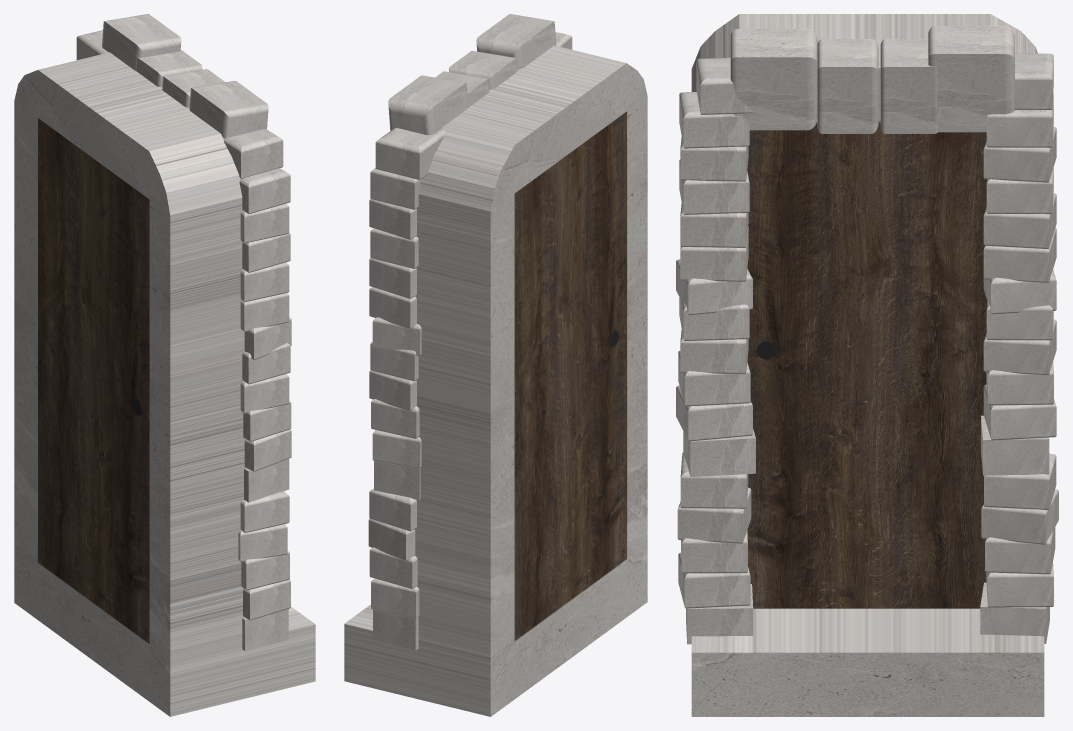
The model's file is Door1.fbx.
The picture shows the model from 3 angles, left to right: view 1: azimuth 30°, elevation 25°; view 2: azimuth 150°, elevation 25°; view 3: azimuth 270°, elevation 25°; orthographic projection. The views are drawn at different scales.
Visible parts, largest first — view 1: Cube, Cube.032, Cube.035, Cube.036, Cube.037, Cube.005, Cube.012, Cube.015, Cube.014, Cube.009, Cube.004, Cube.001 (+11 smaller); view 2: Cube, Cube.035, Cube.032, Cube.038, Cube.033, Cube.031, Cube.020, Cube.022, Cube.017, Cube.028, Cube.021, Cube.029 (+10 smaller); view 3: Cube, Cube.032, Cube.035, Cube.033, Cube.034, Cube.037, Cube.006, Cube.021, Cube.007, Cube.019, Cube.020, Cube.022 (+27 smaller).
Part boxes in pixels (<box>): Cube: <box>14,52,315,716</box>; Cube.032: <box>189,81,268,138</box>; Cube.035: <box>102,14,181,70</box>; Cube.036: <box>223,129,283,178</box>; Cube.037: <box>239,168,290,213</box>; Cube.005: <box>240,491,289,532</box>; Cube.012: <box>240,262,289,302</box>; Cube.015: <box>240,203,289,243</box>; Cube.014: <box>240,293,289,331</box>; Cube.009: <box>240,374,289,413</box>; Cube.004: <box>238,524,287,562</box>; Cube.001: <box>242,609,288,650</box>; Cube: <box>344,45,647,716</box>; Cube.035: <box>388,75,467,135</box>; Cube.032: <box>476,14,556,69</box>; Cube.038: <box>375,128,444,179</box>; Cube.033: <box>448,50,517,89</box>; Cube.031: <box>370,168,421,209</box>; Cube.020: <box>369,488,416,531</box>; Cube.022: <box>372,430,421,468</box>; Cube.017: <box>371,578,419,618</box>; Cube.028: <box>370,228,418,268</box>; Cube.021: <box>374,461,420,500</box>; Cube.029: <box>369,287,416,328</box>; Cube: <box>691,14,1044,716</box>; Cube.032: <box>730,29,817,130</box>; Cube.035: <box>928,25,1014,132</box>; Cube.033: <box>817,39,878,133</box>; Cube.034: <box>880,39,937,133</box>; Cube.037: <box>679,92,749,148</box>; Cube.006: <box>683,429,755,476</box>; Cube.021: <box>981,415,1049,475</box>; Cube.007: <box>676,385,752,441</box>; Cube.019: <box>981,489,1058,544</box>; Cube.020: <box>984,453,1056,510</box>; Cube.022: <box>983,384,1056,440</box>.
Size of the model in its own units: 155 by 587 by 312.
